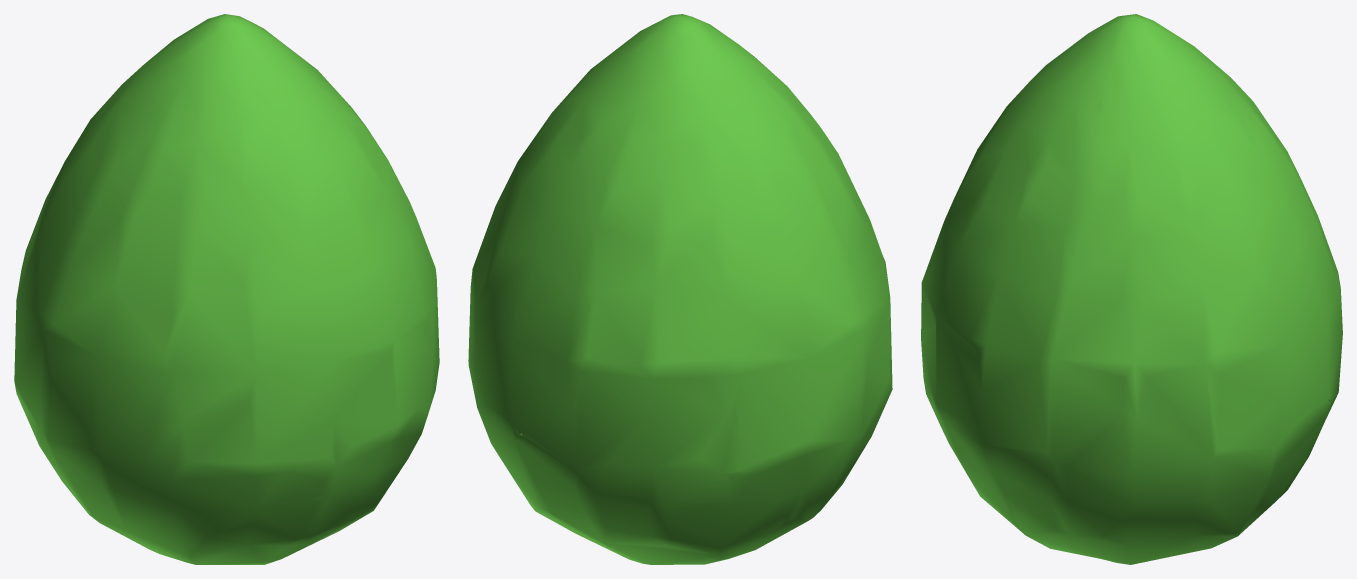
The model's file is gen3d-easter-egg-lod1.glb.
3 renders of one model, left to right at view 1: azimuth 30°, elevation 25°; view 2: azimuth 150°, elevation 25°; view 3: azimuth 270°, elevation 25°, orthographic.
Visible parts, largest first — view 1: part_0; view 2: part_0; view 3: part_0.
Part boxes in pixels (left/top/right/bottom): part_0: left=14, top=14, right=439, bottom=564; part_0: left=468, top=14, right=892, bottom=564; part_0: left=921, top=14, right=1342, bottom=564.
Size of the model in its own units: 0.7217 by 0.9973 by 0.7238.
